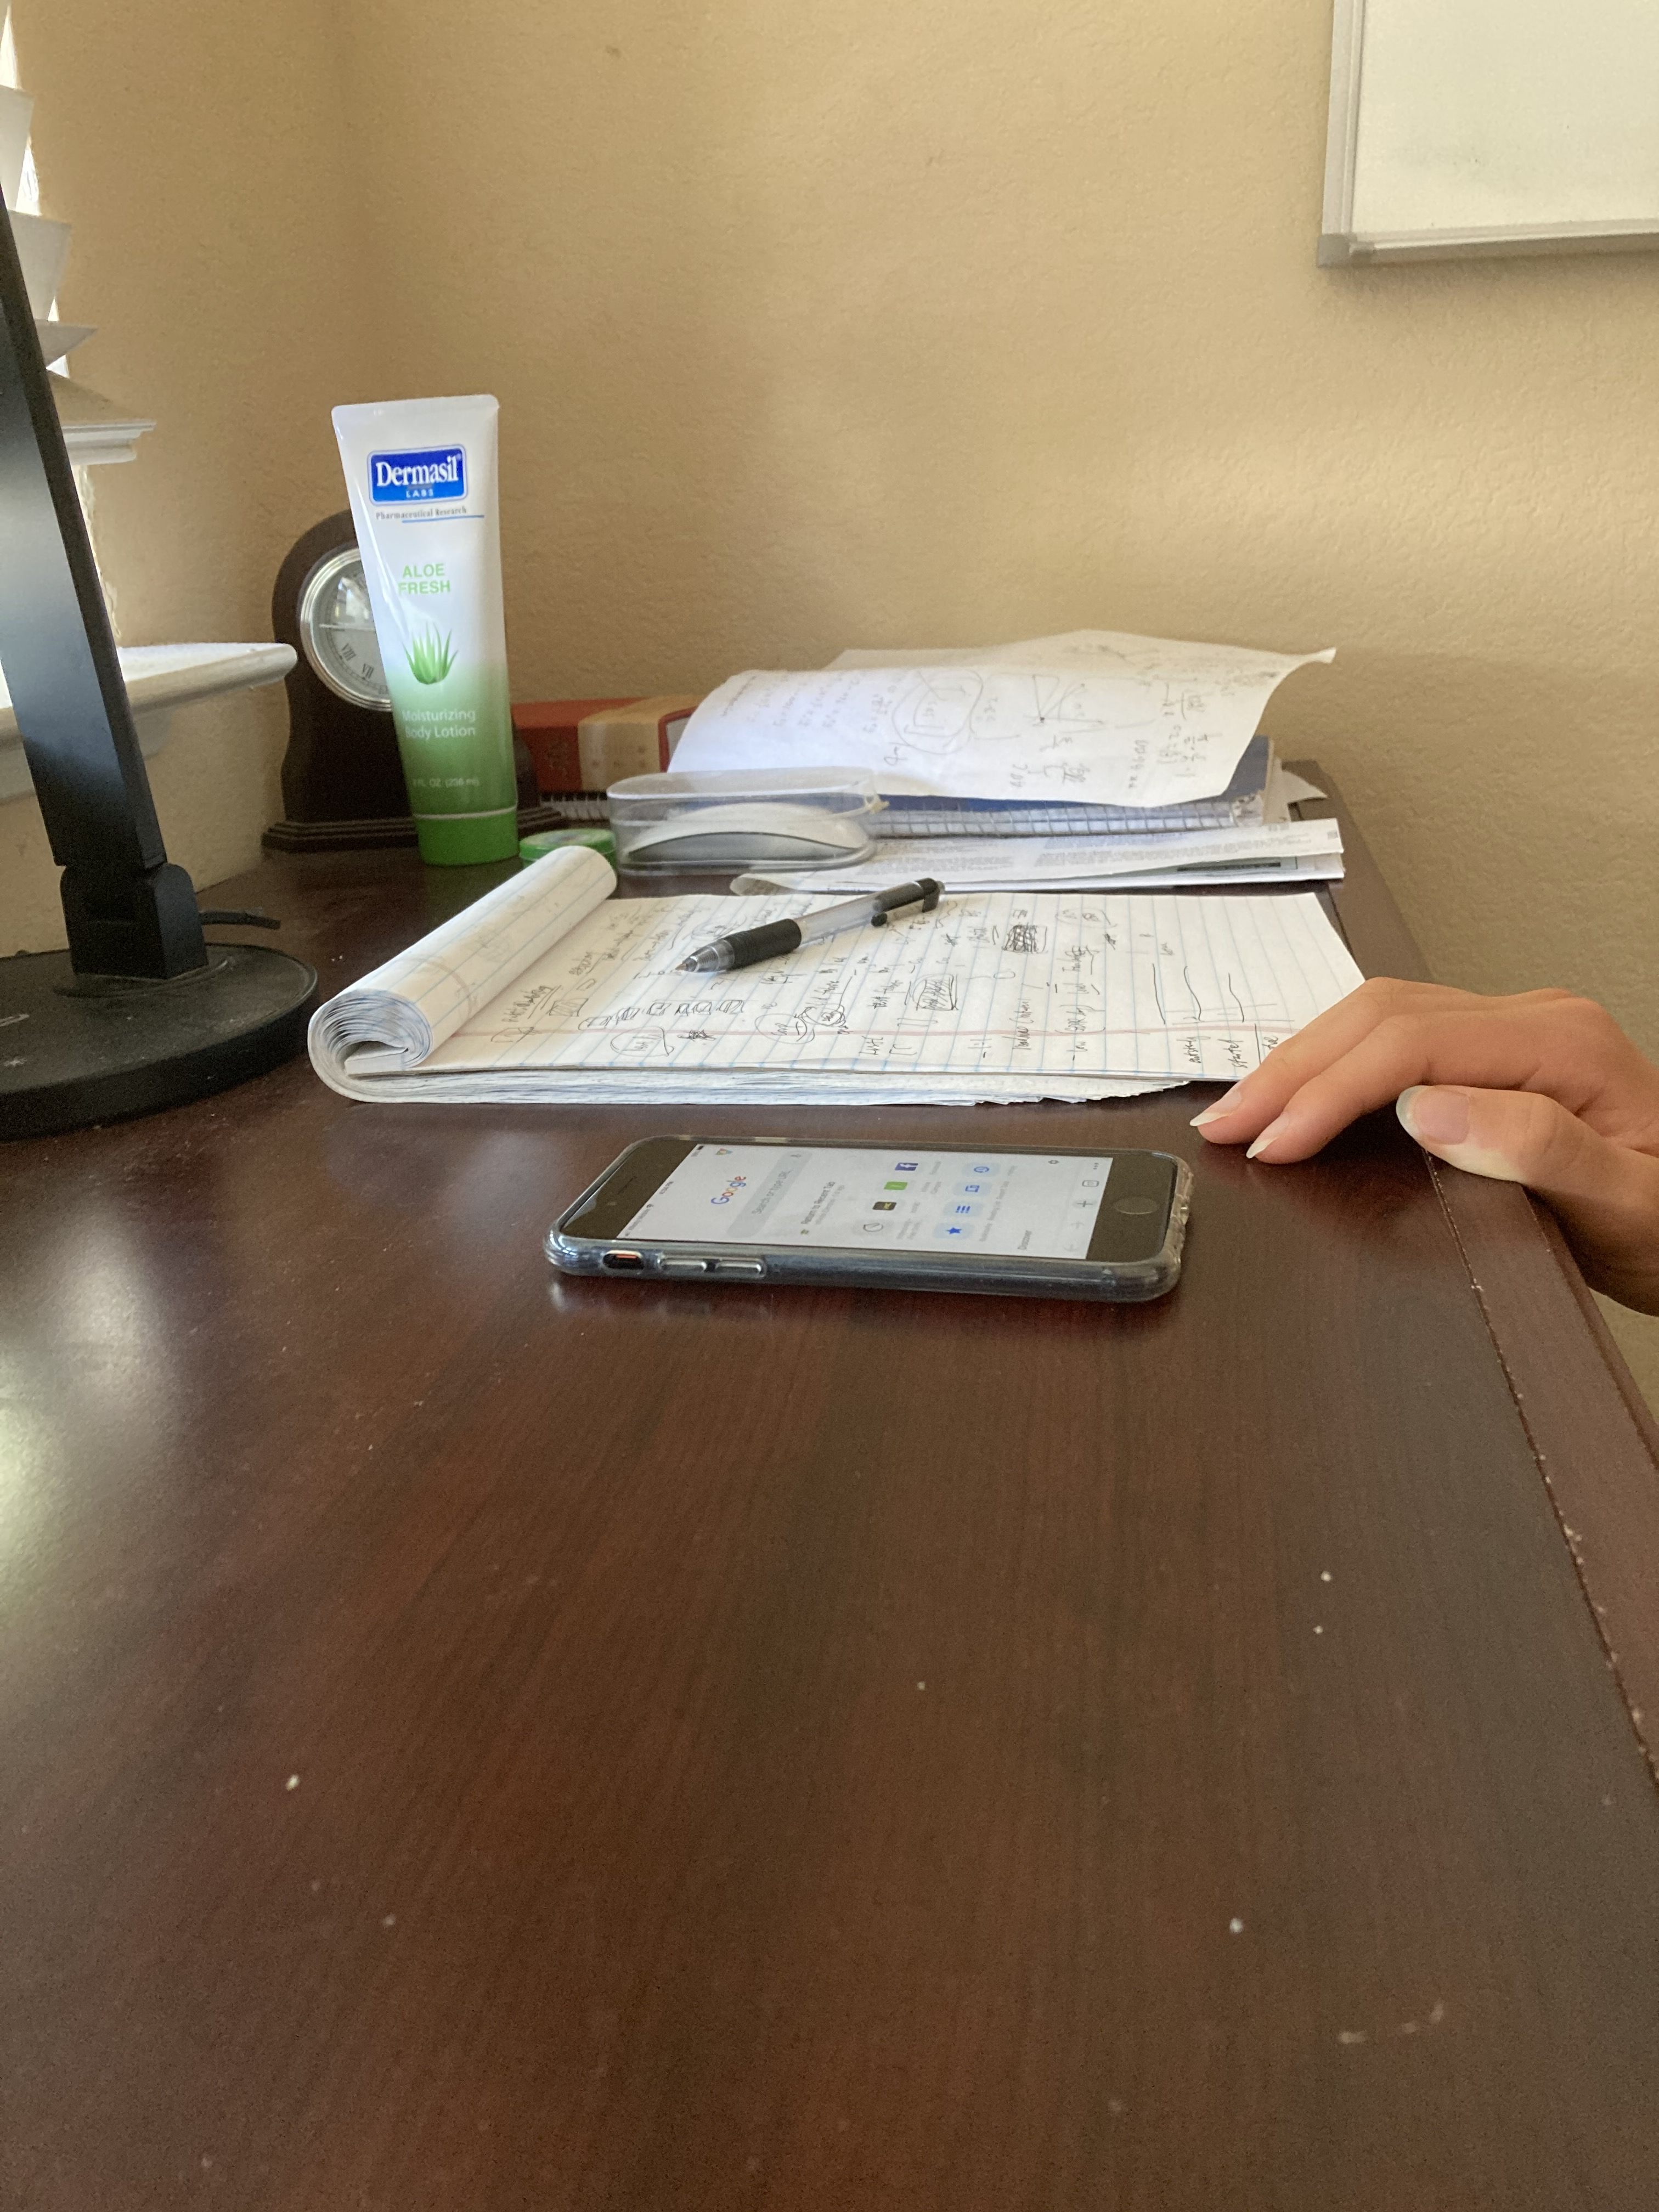Cell Phone: (558, 1130, 1199, 1312)
